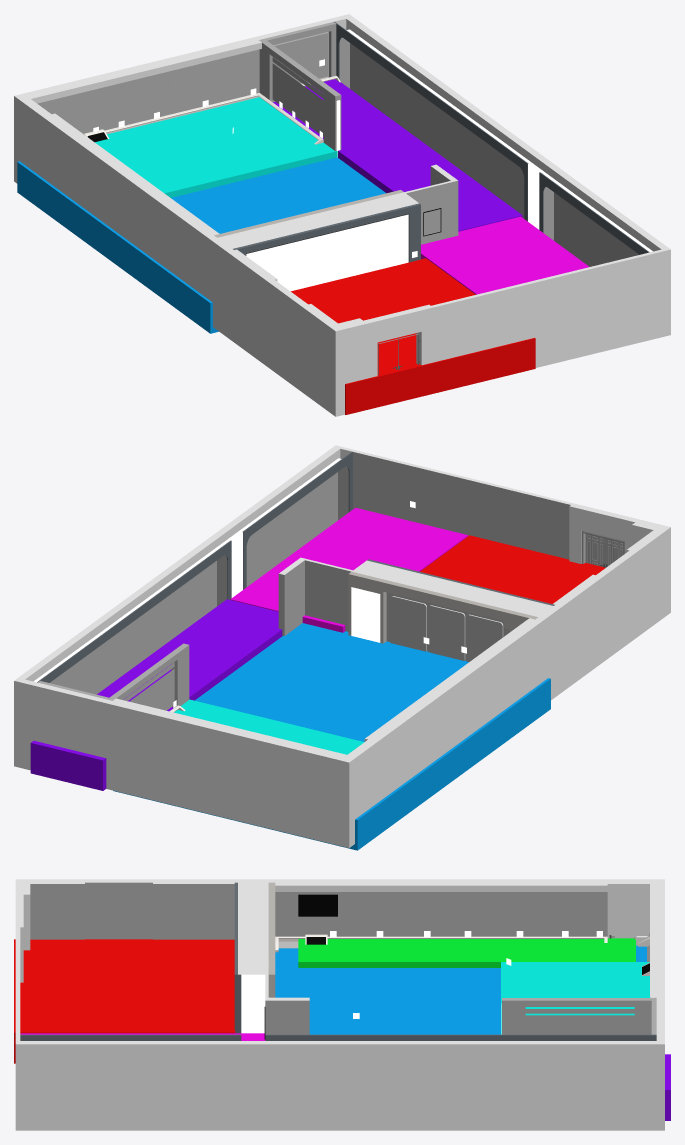
3 renders of one model, top to bottom at view 1: azimuth 30°, elevation 25°; view 2: azimuth 150°, elevation 25°; view 3: azimuth 270°, elevation 25°, orthographic.
Parts seen in each view (by area): view 1: qiang, Box4, Box1, Box5, Box3, Box2, Q5, A3, A6, A7, Obj_QIANG2, MUWEN (+11 smaller); view 2: qiang, Box4, Q0, Box3, Box2, Box1, A11, A1, Obj_QIANG2, A12, A2, A3 (+9 smaller); view 3: qiang, Box1, Box4, Box6, Box5, A9, A8, Obj_QIANG2, A10, Q1, Q4-1, MUWEN (+13 smaller).
Boxes of the visible parts, left/top/right/bottom form: qiang: left=14, top=14, right=670, bottom=416; Box4: left=17, top=157, right=385, bottom=333; Box1: left=291, top=258, right=535, bottom=414; Box5: left=95, top=97, right=337, bottom=197; Box3: left=273, top=79, right=522, bottom=231; Box2: left=421, top=216, right=589, bottom=294; Q5: left=246, top=214, right=408, bottom=291; A3: left=350, top=43, right=459, bottom=168; A6: left=161, top=49, right=259, bottom=116; A7: left=37, top=73, right=160, bottom=133; Obj_QIANG2: left=334, top=21, right=649, bottom=254; MUWEN: left=259, top=22, right=341, bottom=151; qiang: left=14, top=445, right=670, bottom=847; Box4: left=113, top=623, right=550, bottom=850; Q0: left=353, top=452, right=570, bottom=559; Box3: left=30, top=599, right=282, bottom=790; Box2: left=230, top=507, right=468, bottom=632; Box1: left=420, top=535, right=605, bottom=603; A11: left=390, top=596, right=502, bottom=661; A1: left=246, top=472, right=337, bottom=586; Obj_QIANG2: left=37, top=451, right=352, bottom=682; A12: left=284, top=560, right=350, bottom=635; A2: left=139, top=561, right=216, bottom=662; A3: left=50, top=617, right=139, bottom=694; qiang: left=15, top=879, right=664, bottom=1130; Box1: left=14, top=939, right=235, bottom=1063; Box4: left=275, top=945, right=646, bottom=1034; Box6: left=298, top=938, right=635, bottom=967; Box5: left=501, top=962, right=650, bottom=1034; A9: left=389, top=892, right=503, bottom=936; A8: left=503, top=892, right=607, bottom=936; Obj_QIANG2: left=20, top=1034, right=656, bottom=1040; A10: left=275, top=892, right=389, bottom=936; Q1: left=30, top=882, right=234, bottom=902; Q4-1: left=153, top=902, right=234, bottom=939; MUWEN: left=502, top=998, right=656, bottom=1034.
Size of the model in its own units: 11.57 by 3.09 by 19.31.
